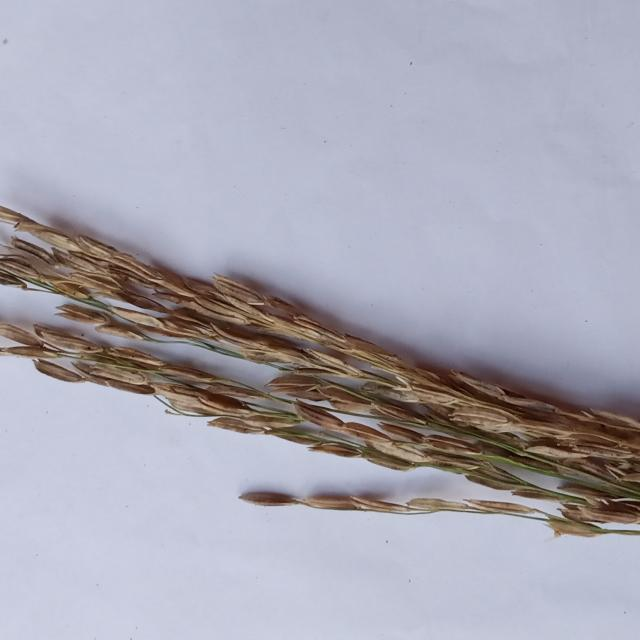Neck_Blast: (0, 200, 638, 489), (0, 321, 634, 528)
